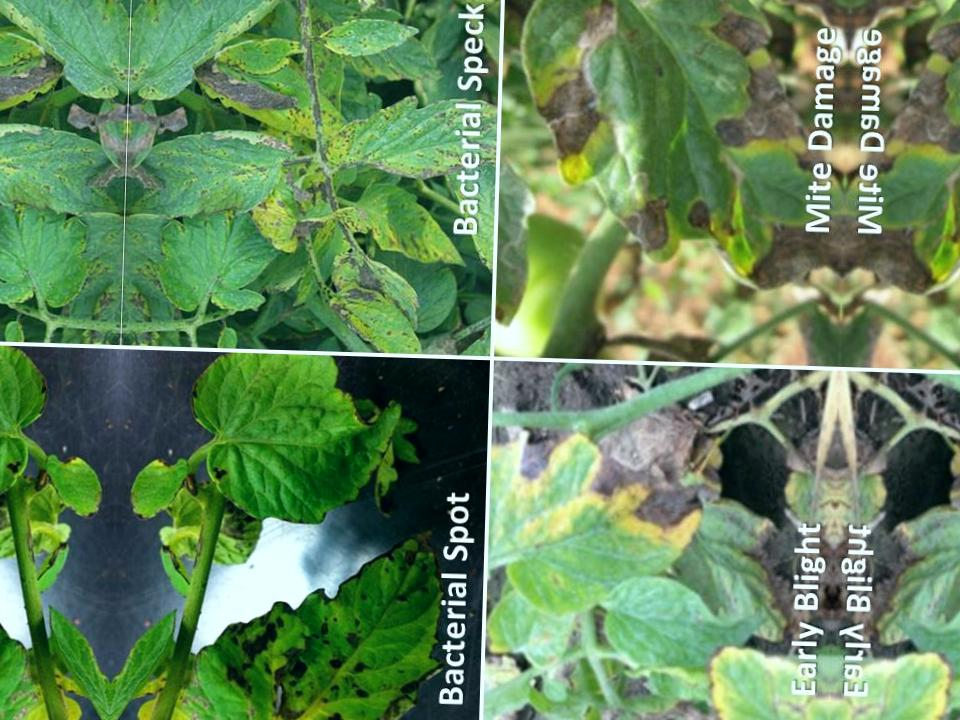Tomato leaf bacterial spot: (492, 415, 833, 720), (190, 530, 466, 720), (195, 354, 432, 555), (129, 116, 310, 236), (302, 86, 493, 198), (133, 0, 341, 102), (299, 0, 418, 71), (205, 29, 298, 82), (339, 0, 496, 22)
